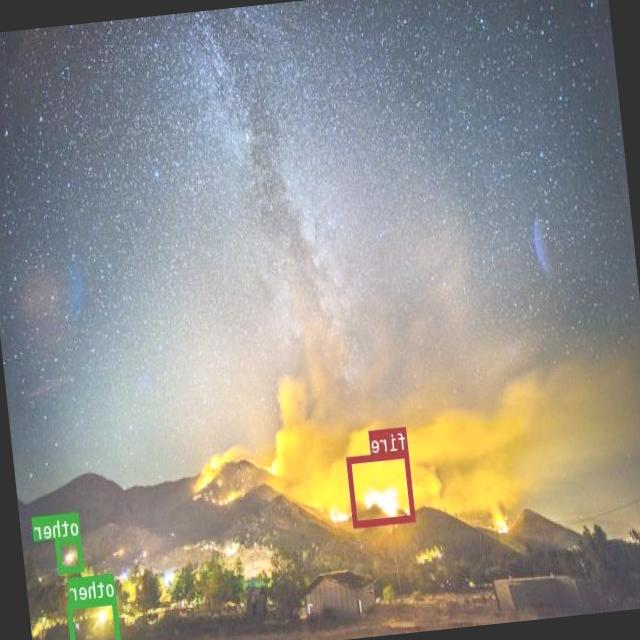fire: (347, 449, 416, 526)
